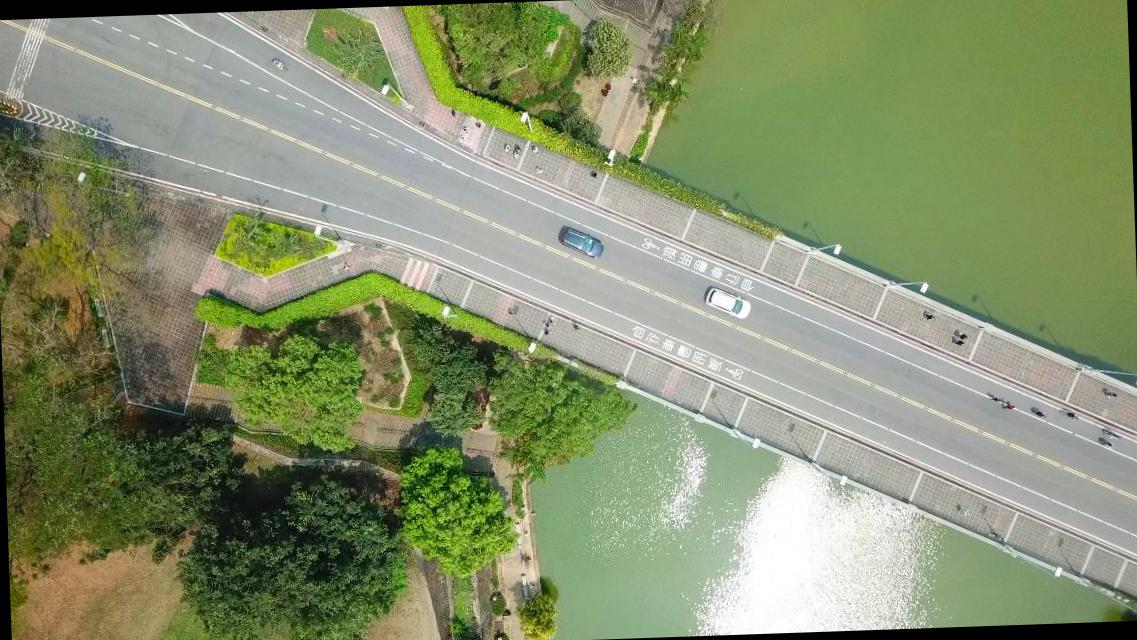vehicle: (557, 223, 604, 260), (704, 284, 750, 320)
